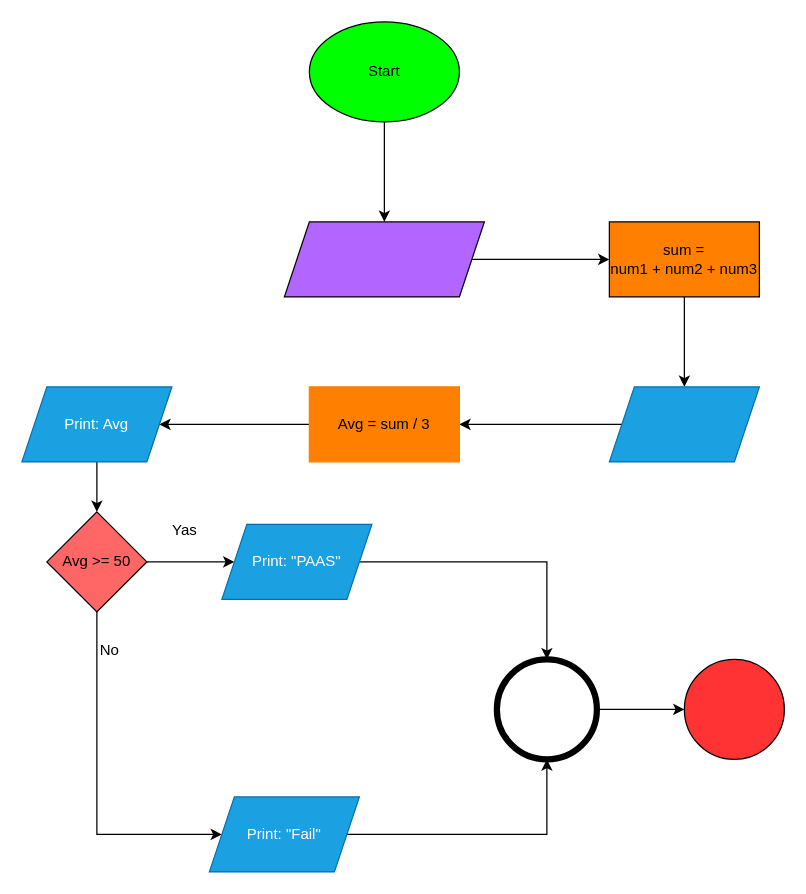
The diagram is 806 pixels wide and 894 high, and some of its shapes have lost their labels. Each missing label, with the centre of its shape:
"End" goes at point (733, 708).
"Print: sum" goes at point (683, 424).
"Read: num1, num2, num3" goes at point (383, 259).
